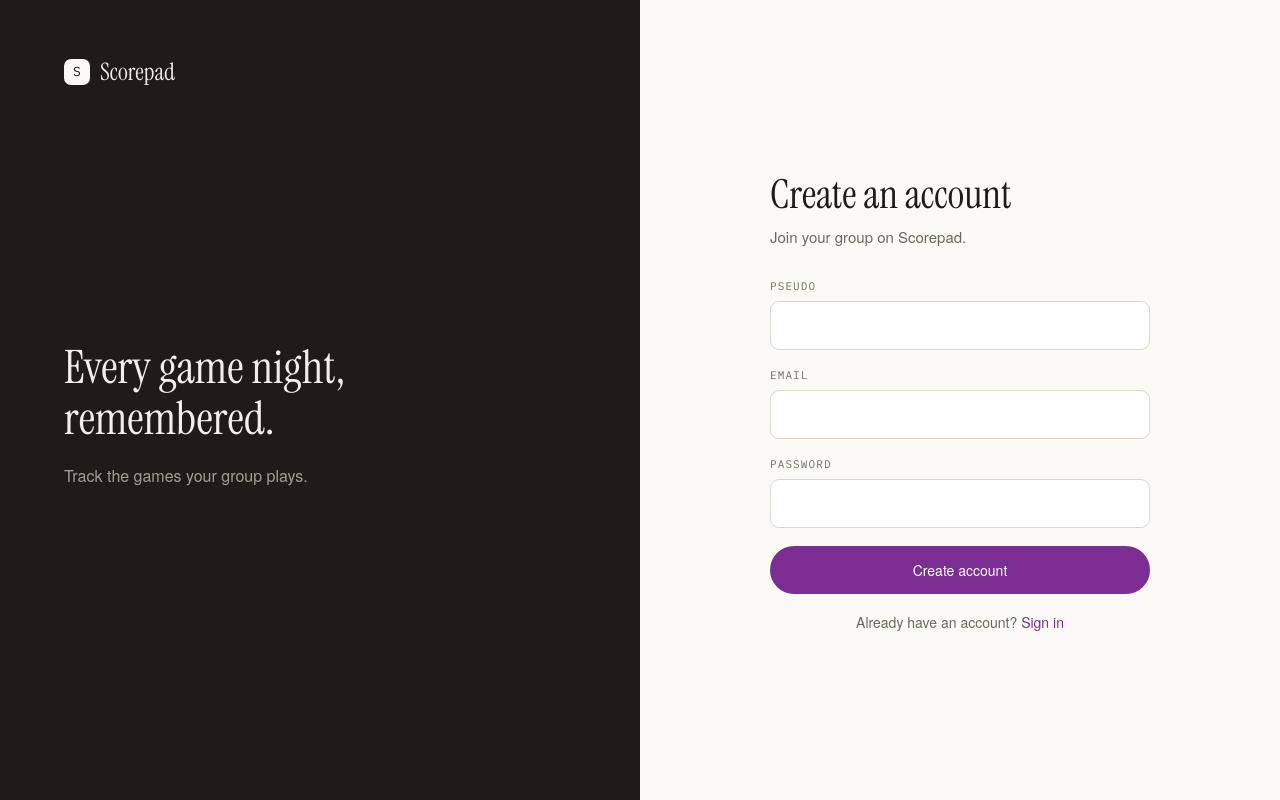
Test: signup › creates the account, logs in and lands on the games page
The width and height of the screenshot is (1280, 800).
Type "toto" into the field labelled "Pseudo".
click(960, 326); type("toto")  # box [770,301,1150,350]
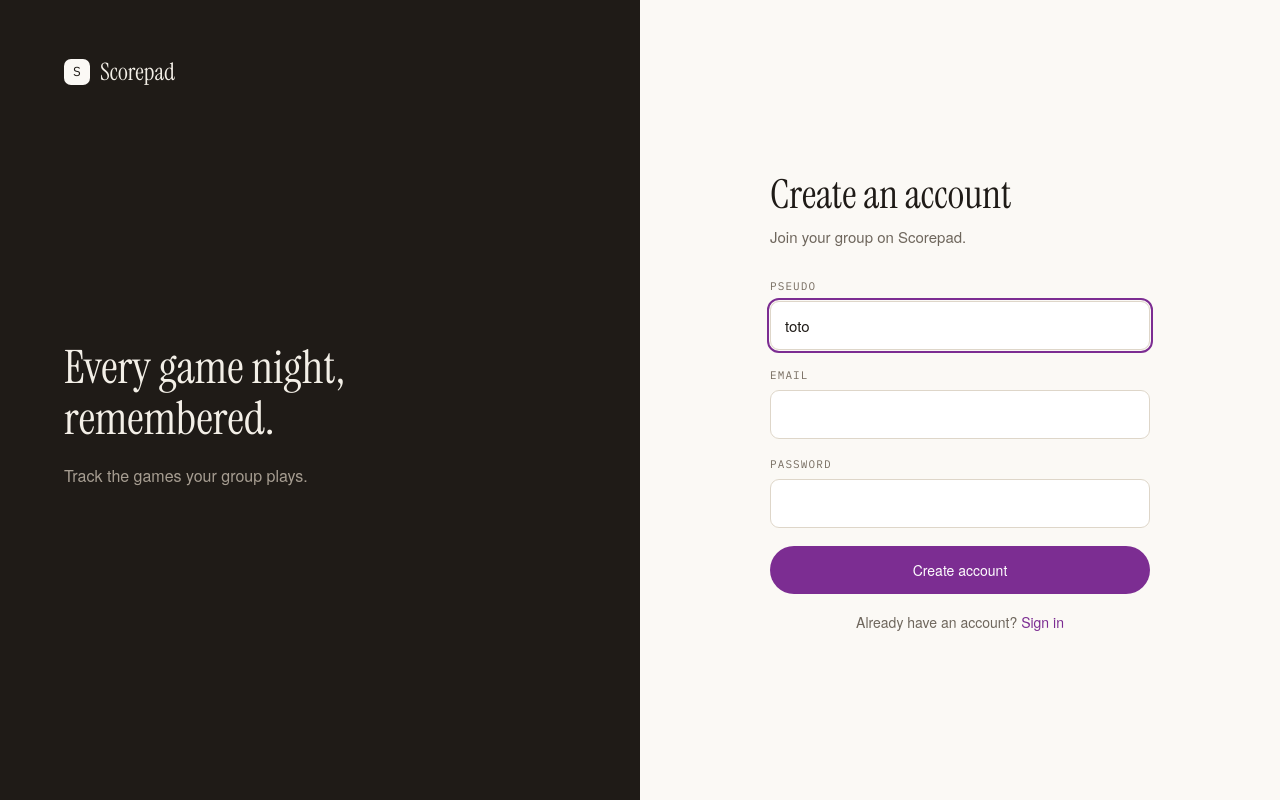
Type "toto@example.com" into the field labelled "Email".
click(960, 414); type("toto@example.com")  # box [770,390,1150,439]
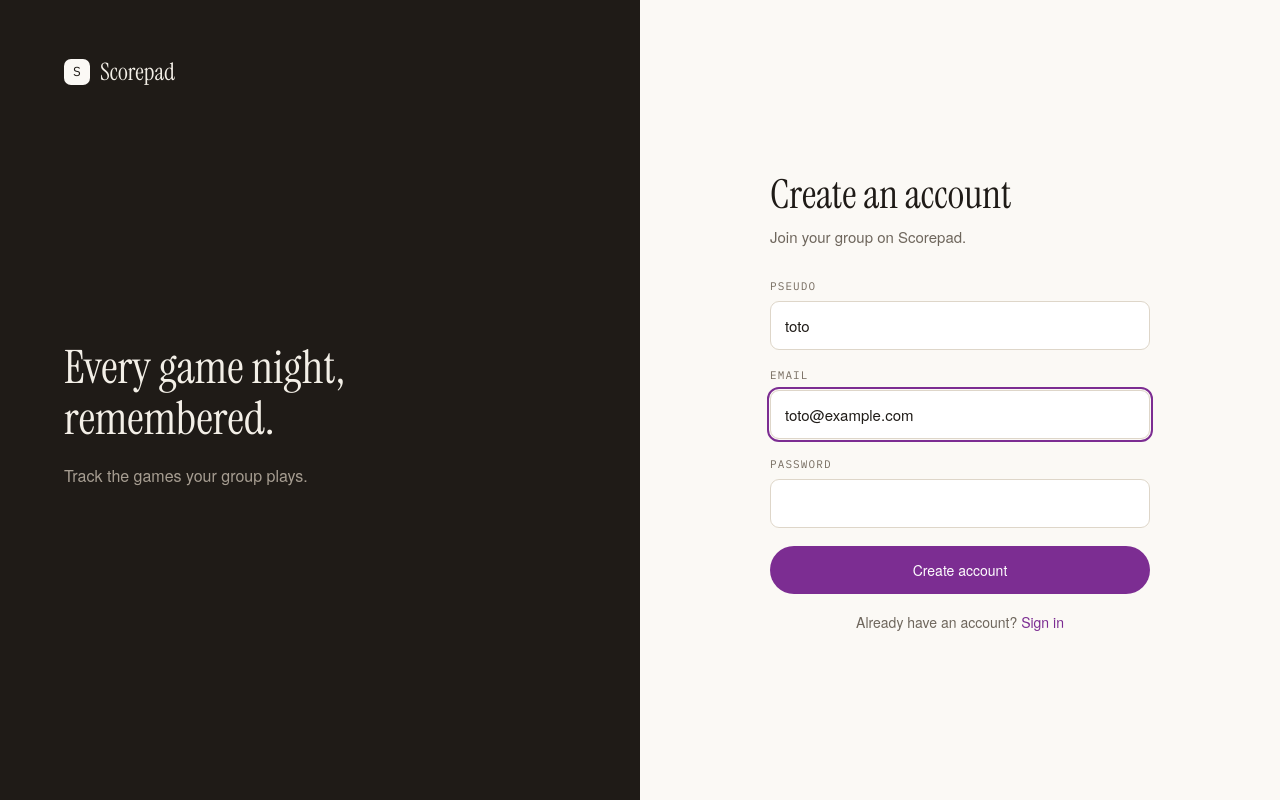
Type "securepassword123" into the password field labelled "Password".
click(960, 504); type("securepassword123")  # box [770,479,1150,528]
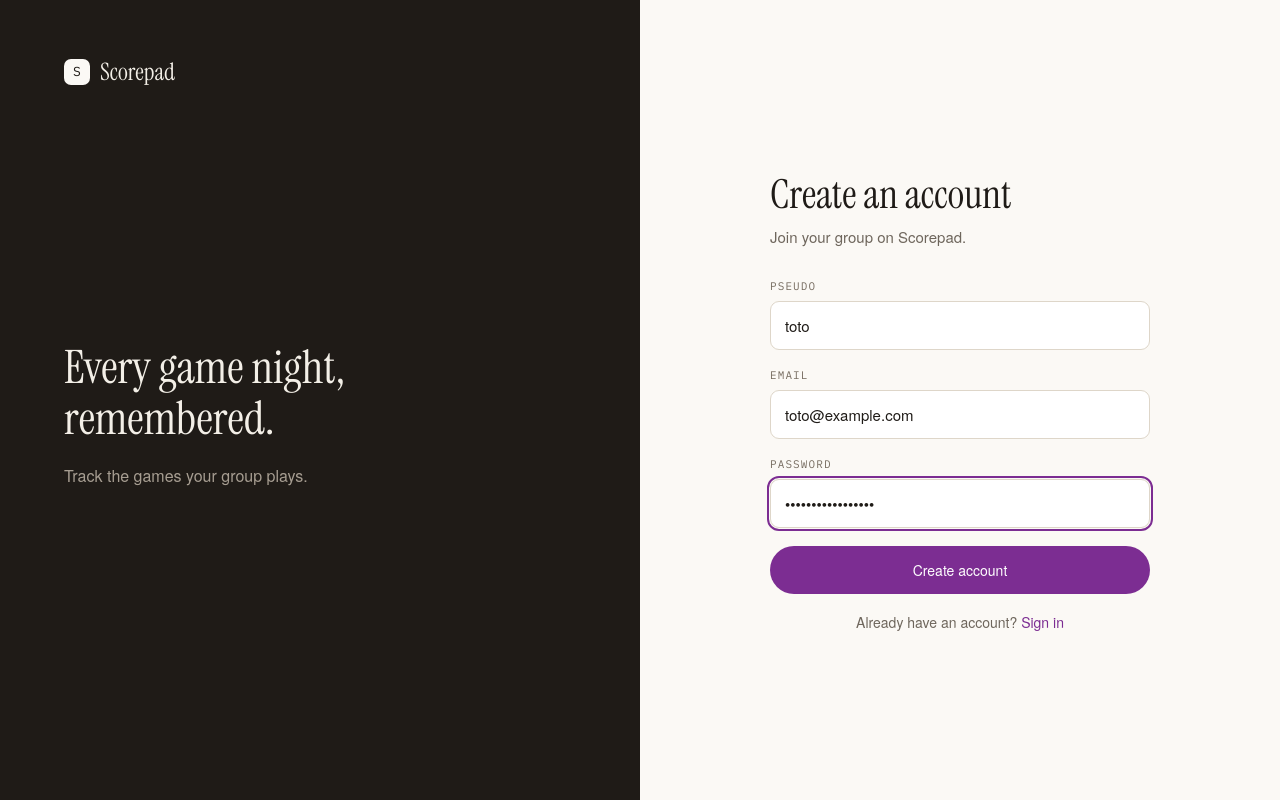
Click the button "Create account".
click(960, 570)  # box [770,546,1150,594]
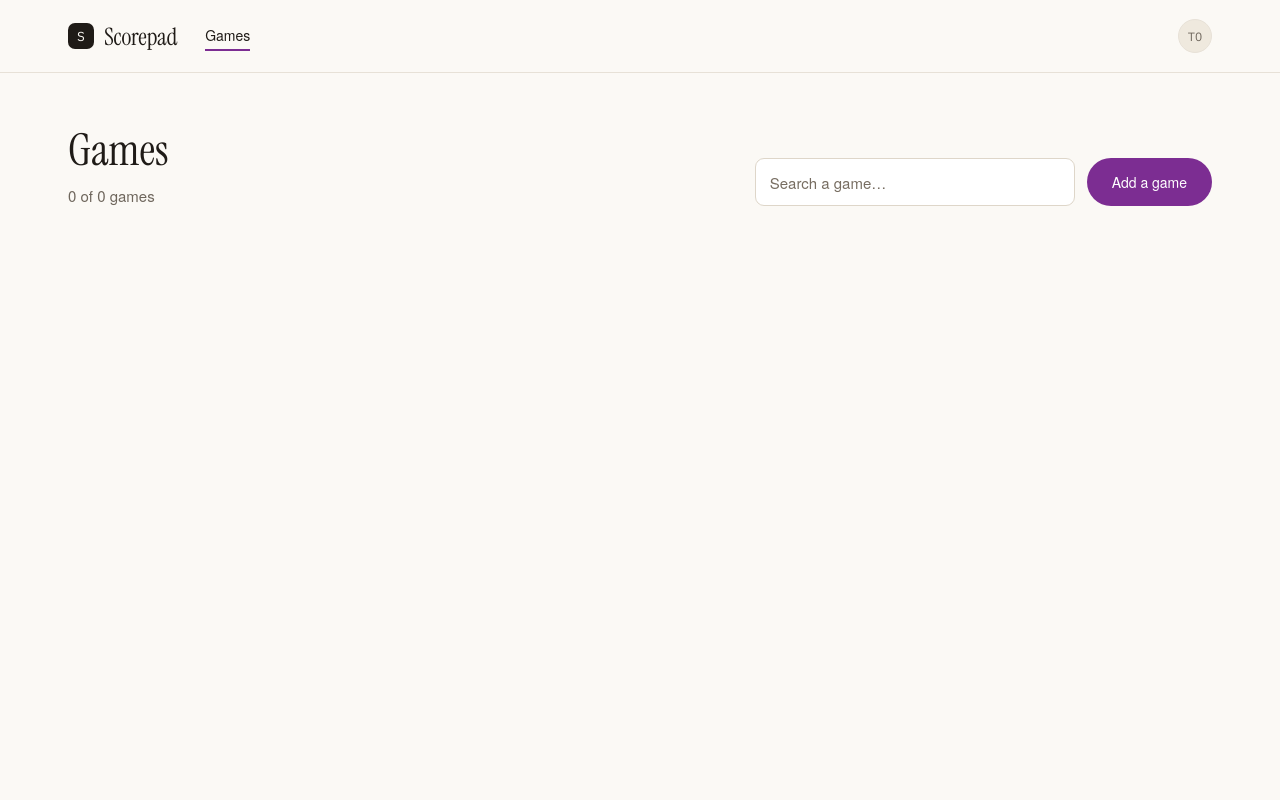
Check: the heading "Games" is shown, box [68,121,169,179]
